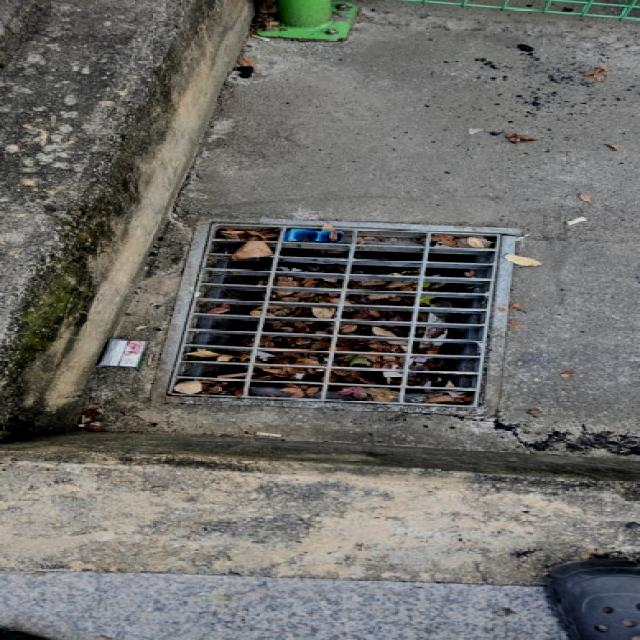drain_area: (214, 242, 495, 303), (437, 282, 488, 392), (186, 303, 262, 354), (173, 360, 245, 379)
drain_full: (170, 225, 499, 405)
